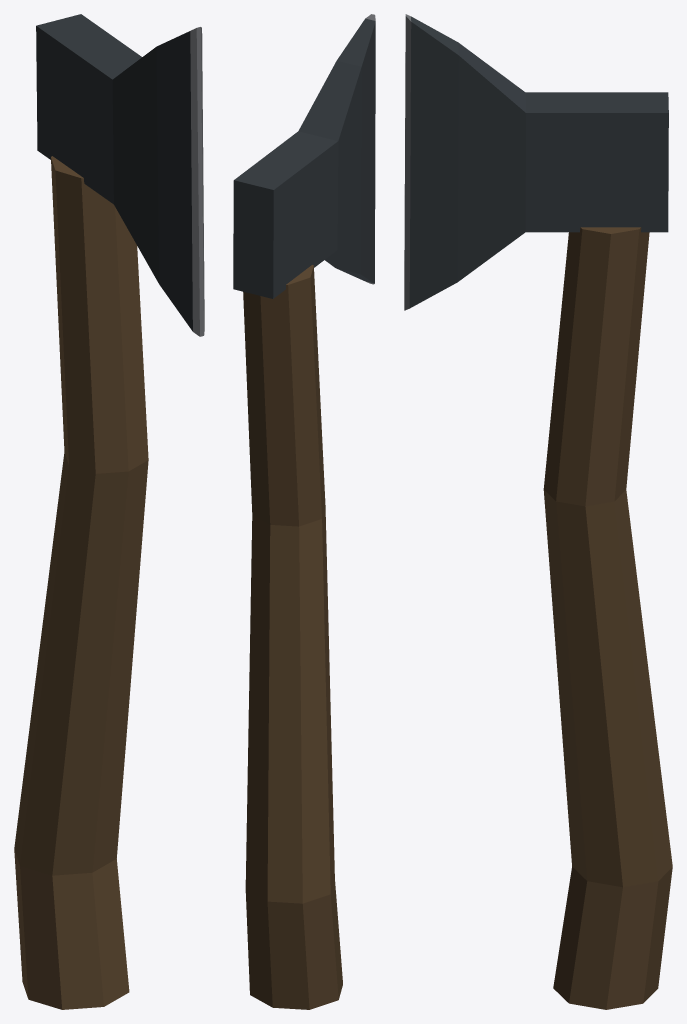
File: Axe_2.fbx
3 views of the same model, side by side, from view 1: azimuth 30°, elevation 25°; view 2: azimuth 150°, elevation 25°; view 3: azimuth 270°, elevation 25° (orthographic). The views are drawn at different scales.
Visible parts, largest first — view 1: Axe_2; view 2: Axe_2; view 3: Axe_2.
Part boxes in pixels (left/top/right/bottom): Axe_2: left=14, top=14, right=204, bottom=1009; Axe_2: left=233, top=14, right=375, bottom=1009; Axe_2: left=404, top=14, right=672, bottom=1009.
Size of the model in its own units: 12.41 by 117 by 28.89.
